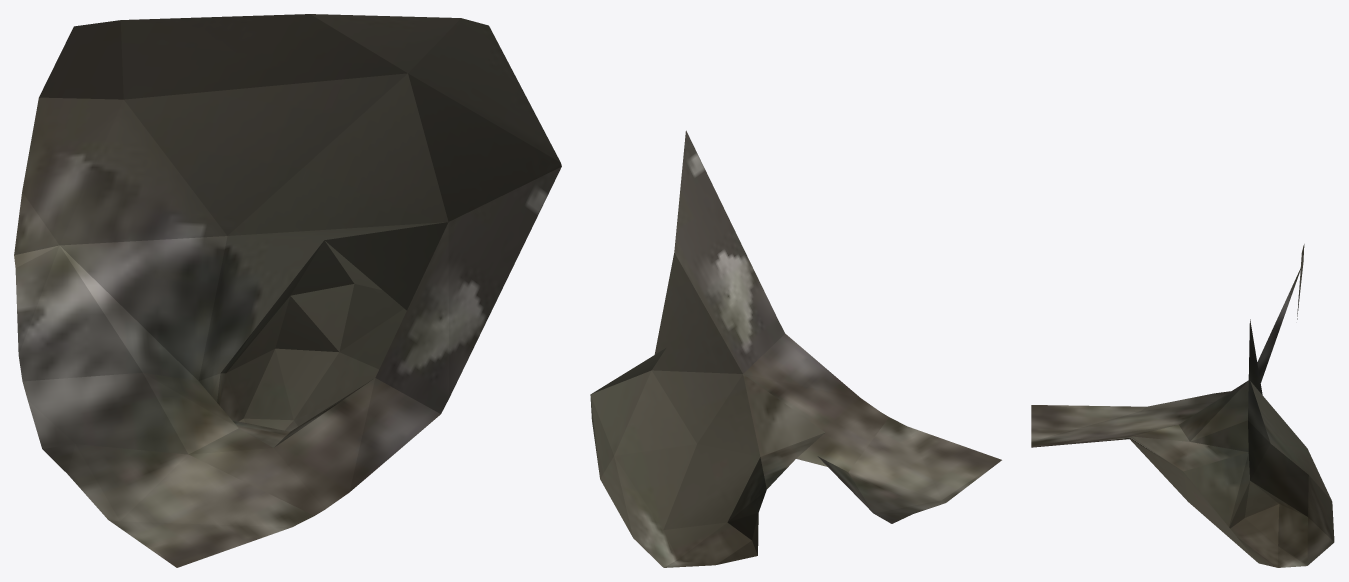
The picture shows the model from 3 angles, left to right: view 1: azimuth 30°, elevation 25°; view 2: azimuth 150°, elevation 25°; view 3: azimuth 270°, elevation 25°; orthographic projection. The views are drawn at different scales.
Size of the model in its own units: 0.9824 by 1.32 by 0.7985.
1 material, 1 textured.
